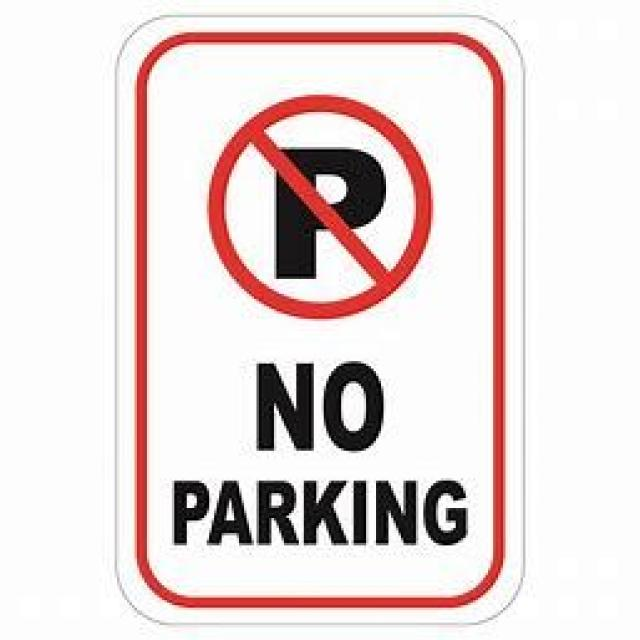do_not_enter: (207, 94, 431, 318)
